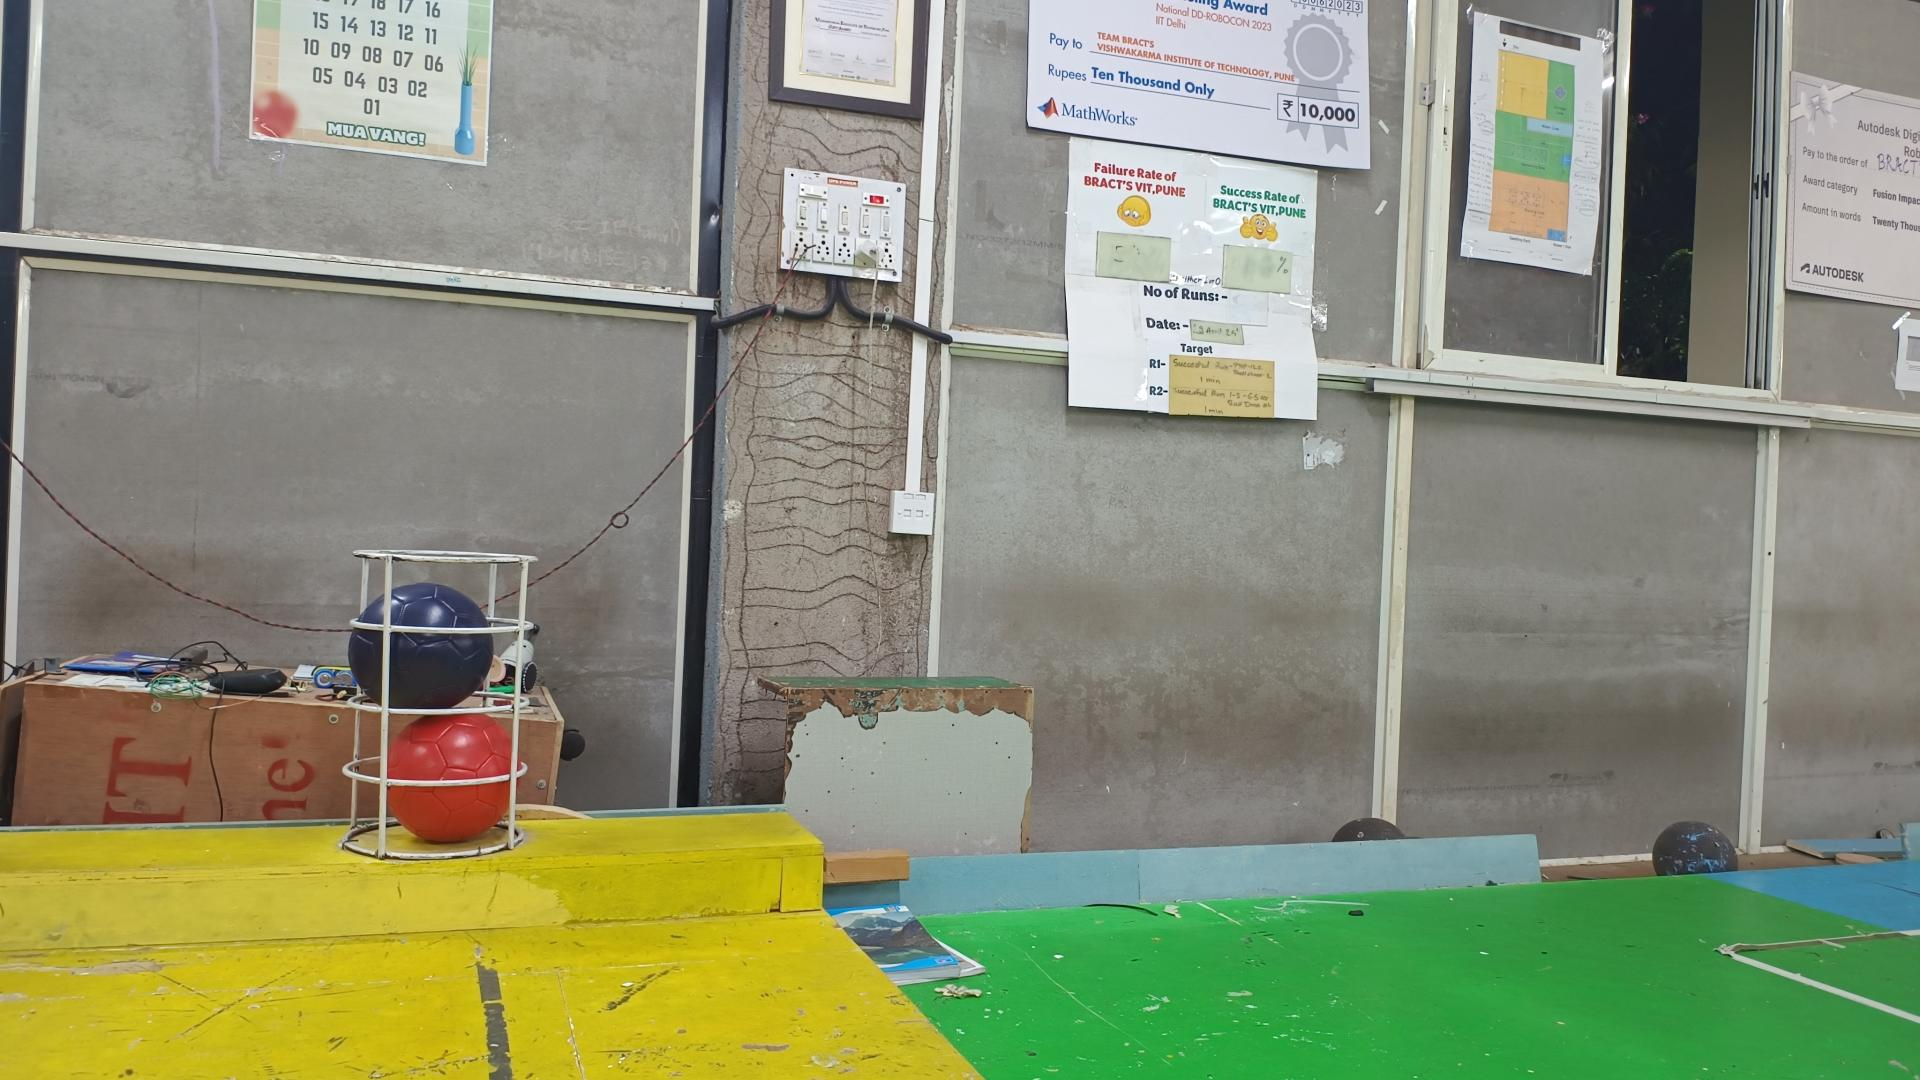dhoka: (348, 582, 495, 712)
laale: (386, 712, 525, 844)
